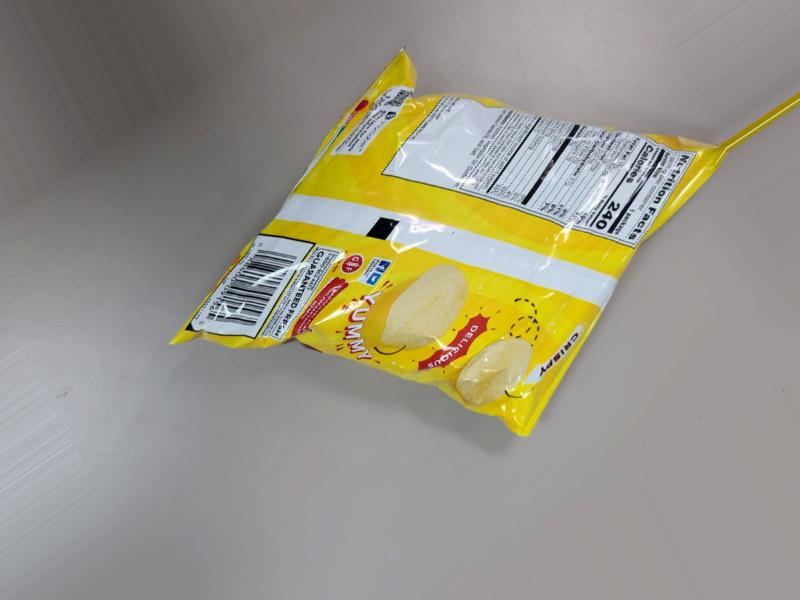lays: (159, 0, 800, 373)
